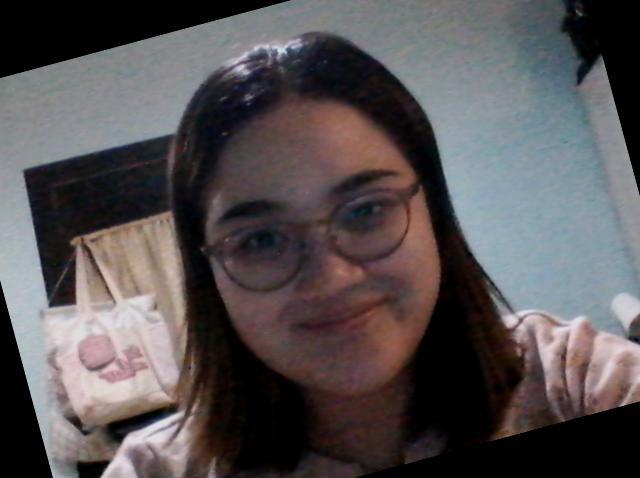senang: (162, 65, 477, 428)
